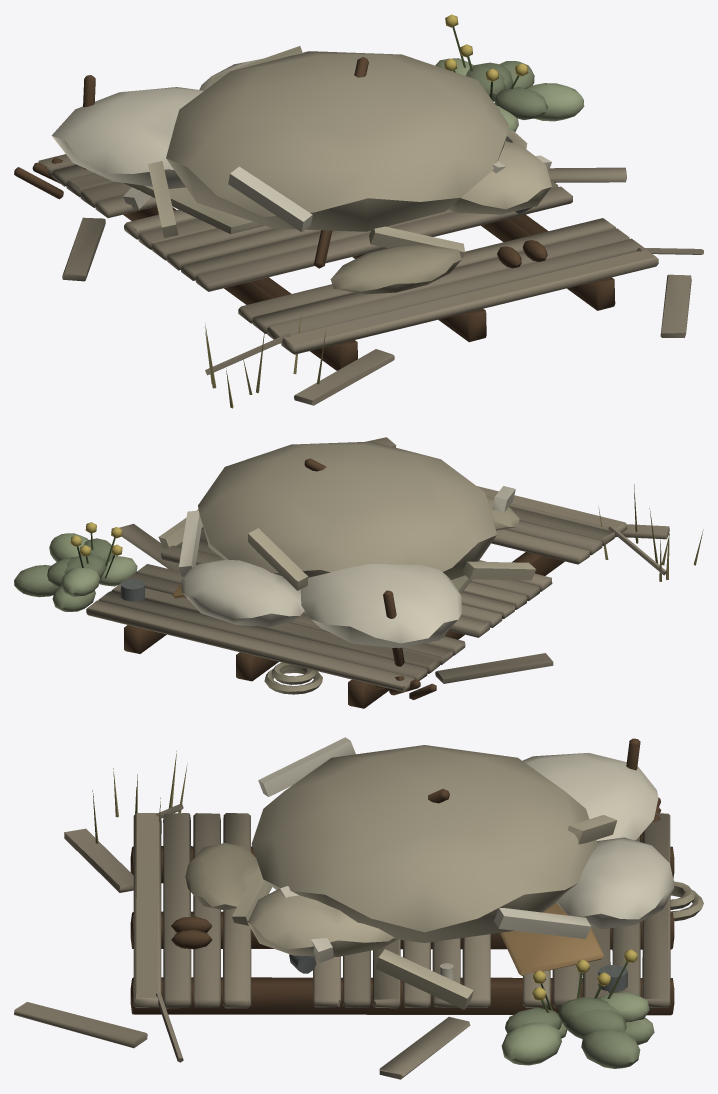
The model's file is survey_tent_b_lod1.glb.
The picture shows the model from 3 angles, top to bottom: view 1: azimuth 30°, elevation 25°; view 2: azimuth 150°, elevation 25°; view 3: azimuth 270°, elevation 25°; orthographic projection. The views are drawn at different scales.
Parts seen in each view (by area): view 1: Surface.001; view 2: Surface.001; view 3: Surface.001.
Boxes of the visible parts, left/top/right/bottom form: Surface.001: left=14, top=14, right=703, bottom=408; Surface.001: left=14, top=437, right=703, bottom=708; Surface.001: left=14, top=737, right=703, bottom=1079.
Size of the model in its own units: 9.01 by 2.61 by 9.33.
